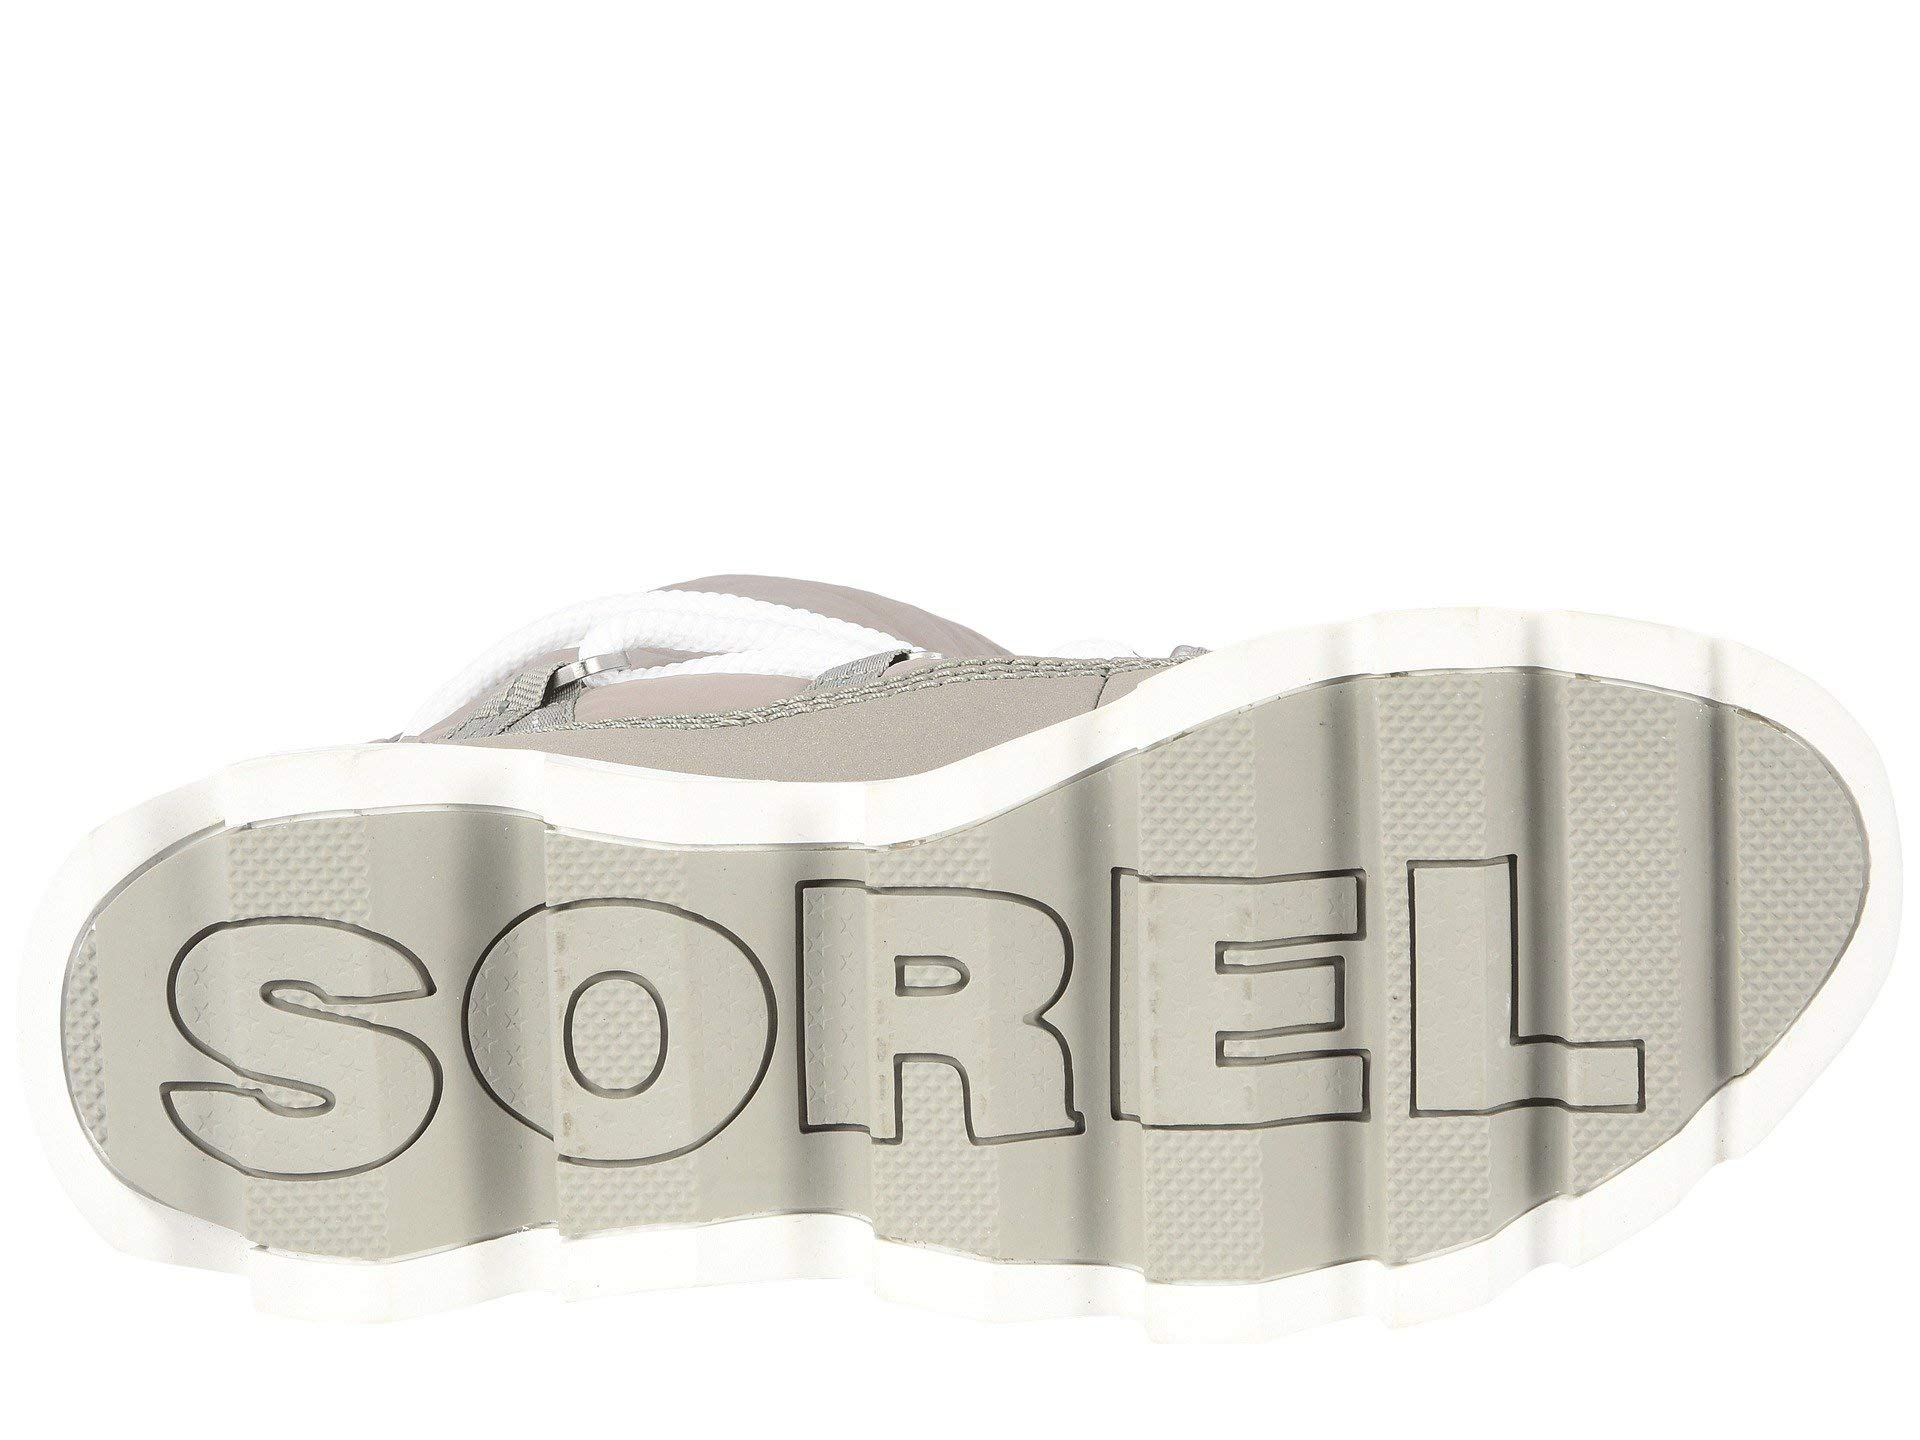circle: (122, 844, 1699, 1192)
line: (1253, 623, 1755, 749)
quad: (122, 844, 1699, 1192), (1253, 623, 1755, 749)
text: (122, 844, 1699, 1192)
